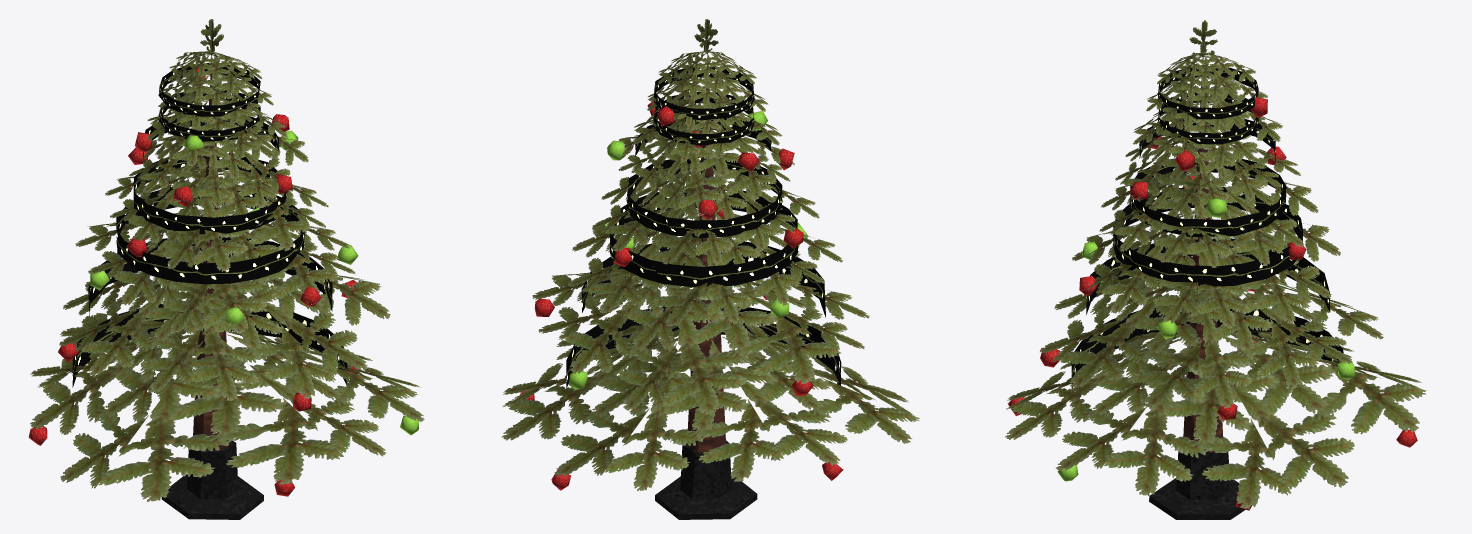
File: xmastree.fbx
3 renders of one model, left to right at view 1: azimuth 30°, elevation 25°; view 2: azimuth 150°, elevation 25°; view 3: azimuth 270°, elevation 25°, orthographic.
Parts seen in each view (by area): view 1: tree, lights, baubels; view 2: tree, lights, baubels; view 3: tree, lights, baubels.
Part boxes in pixels (x1,y1,x2,y2): tree: [30, 19, 424, 519]; lights: [72, 63, 347, 387]; baubels: [28, 68, 418, 496]; tree: [502, 19, 919, 519]; lights: [566, 67, 841, 387]; baubels: [519, 102, 843, 490]; tree: [1005, 20, 1426, 519]; lights: [1071, 66, 1343, 388]; baubels: [1007, 97, 1417, 510].
Size of the model in its own units: 165 by 203 by 183.
Materials: 7 (7 with a texture image).
